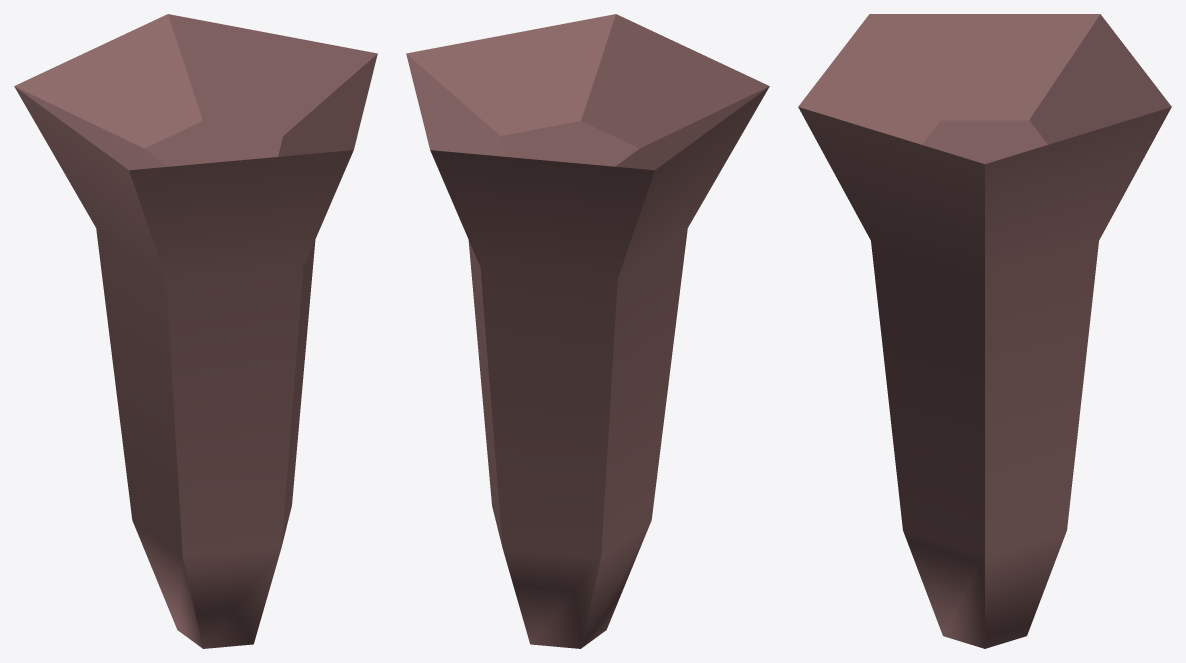
Rendered from golftee.fbx.
3 renders of one model, left to right at view 1: azimuth 30°, elevation 25°; view 2: azimuth 150°, elevation 25°; view 3: azimuth 270°, elevation 25°, orthographic.
Parts seen in each view (by area): view 1: pCylinder2; view 2: pCylinder2; view 3: pCylinder2.
Boxes of the visible parts, x1,y1,x2,y2 form: pCylinder2: [14, 14, 377, 648]; pCylinder2: [406, 14, 769, 648]; pCylinder2: [798, 14, 1171, 648].
Size of the model in its own units: 0.1587 by 0.2674 by 0.1668.
